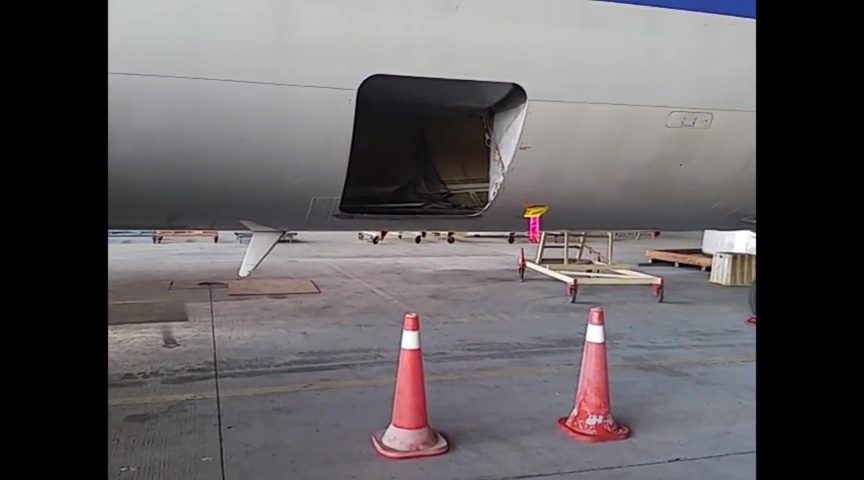safety_cone: (370, 312, 451, 460), (556, 306, 634, 444)
